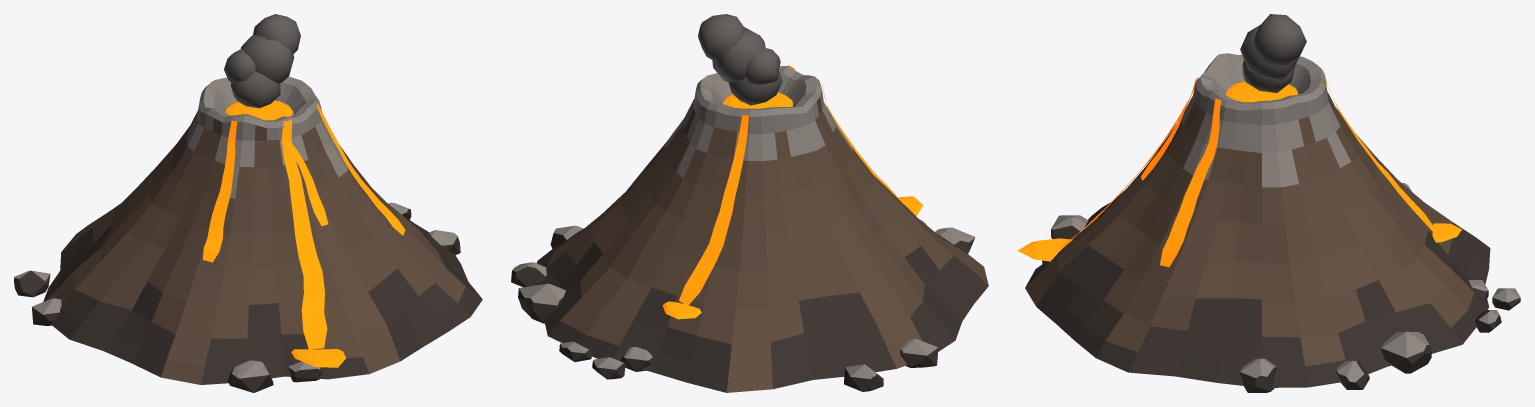
The model's file is mini_volcano.glb.
3 renders of one model, left to right at view 1: azimuth 30°, elevation 25°; view 2: azimuth 150°, elevation 25°; view 3: azimuth 270°, elevation 25°, orthographic. The views are drawn at different scales.
Visible parts, largest first — view 1: mini_volcano; view 2: mini_volcano; view 3: mini_volcano.
Part boxes in pixels (bbox=[...]): mini_volcano: bbox=[14, 14, 482, 392]; mini_volcano: bbox=[511, 14, 988, 392]; mini_volcano: bbox=[1017, 14, 1520, 392].
Size of the model in its own units: 23.21 by 15.04 by 23.81.
